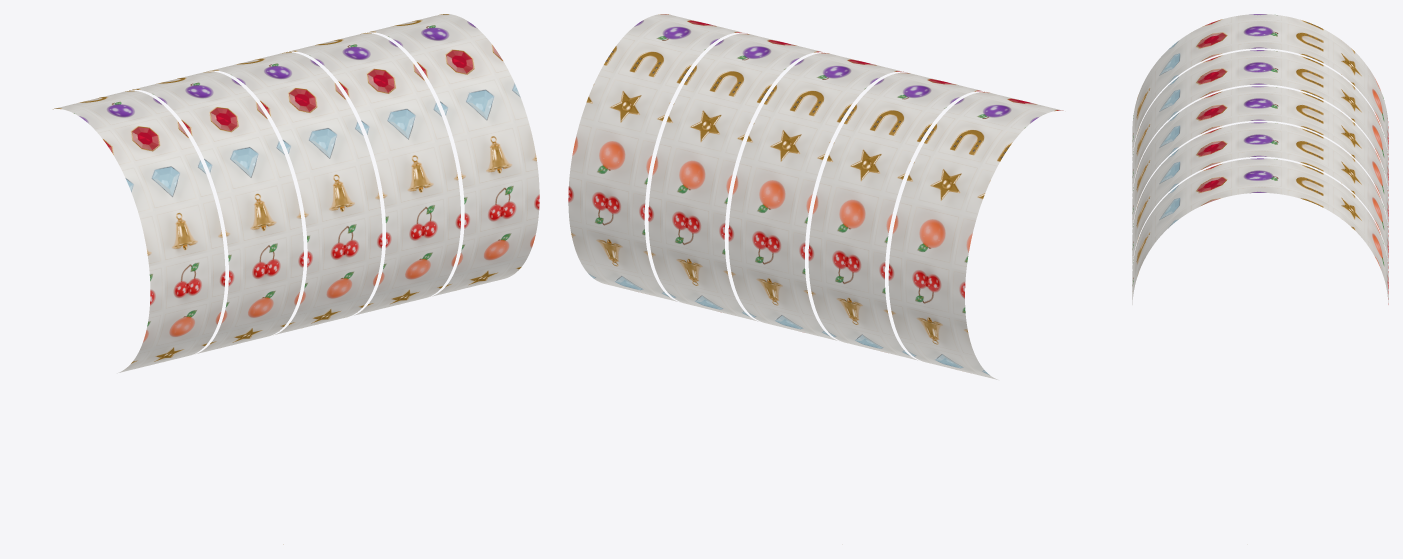
The model's file is fullscreen_garden_atrium.glb.
3 renders of one model, left to right at view 1: azimuth 30°, elevation 25°; view 2: azimuth 150°, elevation 25°; view 3: azimuth 270°, elevation 25°, orthographic. The views are drawn at different scales.
Parts seen in each view (by area): view 1: Printed reel 4, Printed reel 2, Printed reel 0, Printed reel 3, Printed reel 1; view 2: Printed reel 1, Printed reel 3, Printed reel 4, Printed reel 2, Printed reel 0; view 3: Printed reel 3, Printed reel 1, Printed reel 2, Printed reel 4, Printed reel 0.
Boxes of the visible parts, bbox=[...] form: Printed reel 4: bbox=[367, 14, 539, 296]; Printed reel 2: bbox=[210, 52, 382, 334]; Printed reel 0: bbox=[53, 90, 225, 373]; Printed reel 3: bbox=[289, 33, 460, 315]; Printed reel 1: bbox=[132, 71, 303, 353]; Printed reel 1: bbox=[808, 72, 984, 360]; Printed reel 3: bbox=[648, 33, 824, 321]; Printed reel 4: bbox=[568, 14, 742, 301]; Printed reel 2: bbox=[728, 53, 903, 340]; Printed reel 0: bbox=[888, 92, 1063, 379]; Printed reel 3: bbox=[1132, 122, 1388, 268]; Printed reel 1: bbox=[1132, 50, 1388, 196]; Printed reel 2: bbox=[1132, 86, 1388, 232]; Printed reel 4: bbox=[1132, 158, 1388, 304]; Printed reel 0: bbox=[1132, 14, 1388, 160].
Size of the model in its own units: 1.34 by 1.54 by 0.81.
2 materials, 1 textured.
